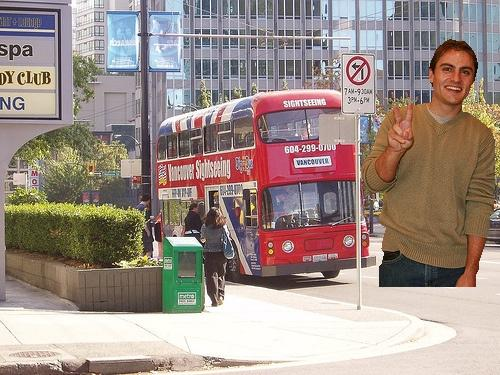tampered: (361, 40, 495, 287)
